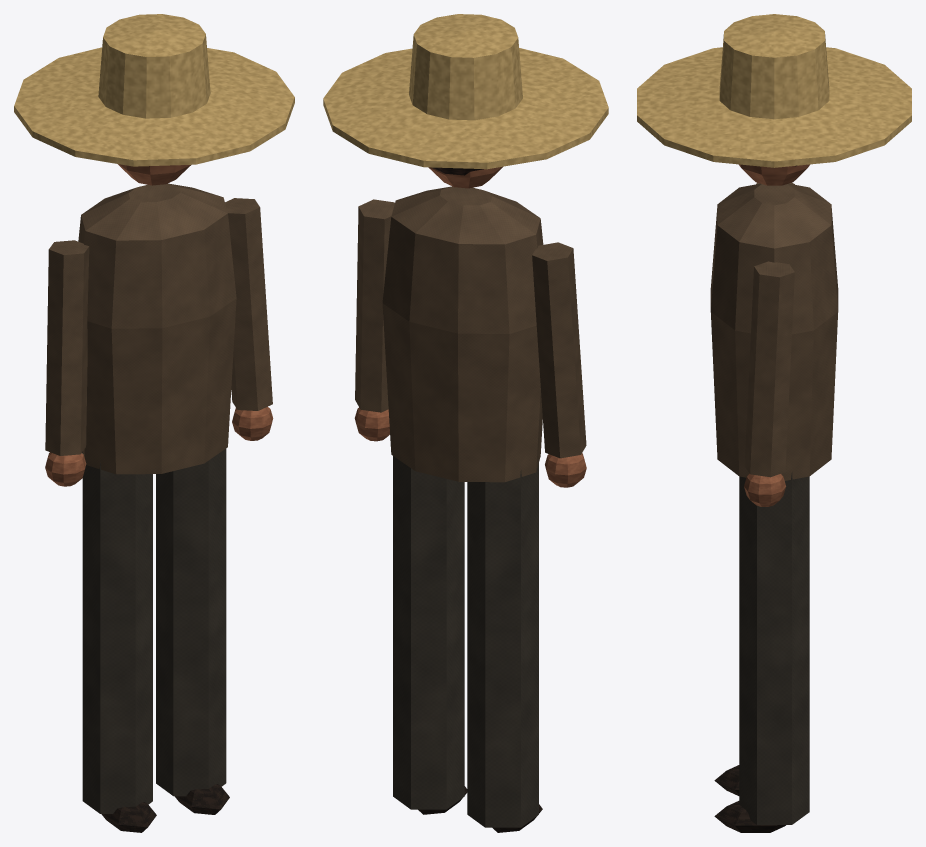
File: persona_hombre.obj
3 views of the same model, side by side, from view 1: azimuth 30°, elevation 25°; view 2: azimuth 150°, elevation 25°; view 3: azimuth 270°, elevation 25° (orthographic).
Parts seen in each view (by area): view 1: Pieza, Pieza.001, Cylinder, Cylinder.001, Cylinder.002, Cylinder.003, Sphere.002, Sphere.003, Sphere, Sphere.001, Sphere.004; view 2: Pieza, Pieza.001, Cylinder, Cylinder.001, Cylinder.002, Cylinder.003, Sphere.002, Sphere.003, Sphere.004; view 3: Pieza.001, Pieza, Cylinder.001, Cylinder.003, Sphere.003, Sphere.004, Sphere.001.
Boxes of the visible parts, bbox=[...] form: Pieza: bbox=[78, 183, 236, 474]; Pieza.001: bbox=[14, 14, 294, 166]; Cylinder: bbox=[82, 451, 152, 813]; Cylinder.001: bbox=[156, 448, 226, 796]; Cylinder.002: bbox=[45, 240, 89, 455]; Cylinder.003: bbox=[225, 198, 272, 410]; Sphere.002: bbox=[45, 452, 86, 486]; Sphere.003: bbox=[232, 406, 273, 440]; Sphere: bbox=[101, 802, 156, 832]; Sphere.001: bbox=[175, 784, 229, 814]; Sphere.004: bbox=[118, 164, 191, 185]; Pieza: bbox=[382, 186, 543, 482]; Pieza.001: bbox=[323, 14, 608, 169]; Cylinder: bbox=[467, 457, 538, 827]; Cylinder.001: bbox=[393, 456, 464, 809]; Cylinder.002: bbox=[532, 242, 586, 458]; Cylinder.003: bbox=[355, 199, 394, 412]; Sphere.002: bbox=[545, 453, 586, 487]; Sphere.003: bbox=[354, 407, 389, 441]; Sphere.004: bbox=[428, 166, 502, 188]; Pieza.001: bbox=[637, 14, 911, 167]; Pieza: bbox=[710, 183, 838, 480]; Cylinder.001: bbox=[739, 472, 809, 824]; Cylinder.003: bbox=[744, 261, 794, 477]; Sphere.003: bbox=[744, 473, 786, 506]; Sphere.004: bbox=[738, 164, 810, 185]; Sphere.001: bbox=[714, 801, 785, 832].
Size of the model in its own units: 0.6 by 1.83 by 0.585.
6 materials, 6 textured.
